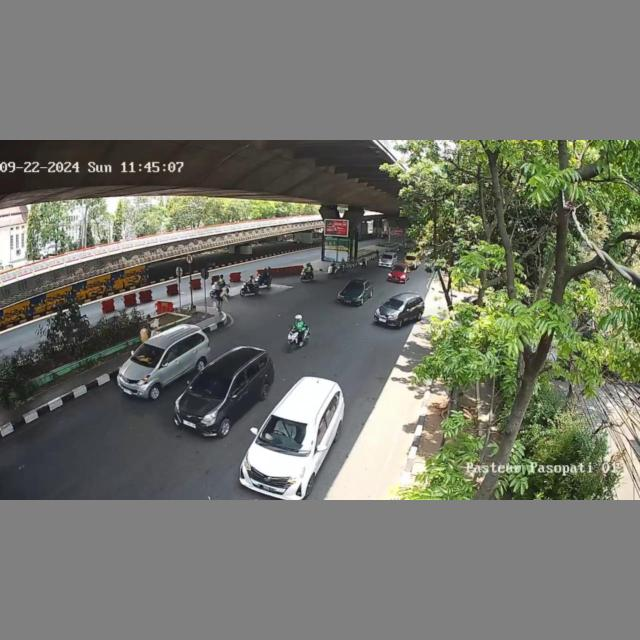windshield: (258, 415, 316, 454), (189, 373, 231, 398), (131, 343, 164, 366), (383, 298, 406, 311), (345, 283, 365, 291)
